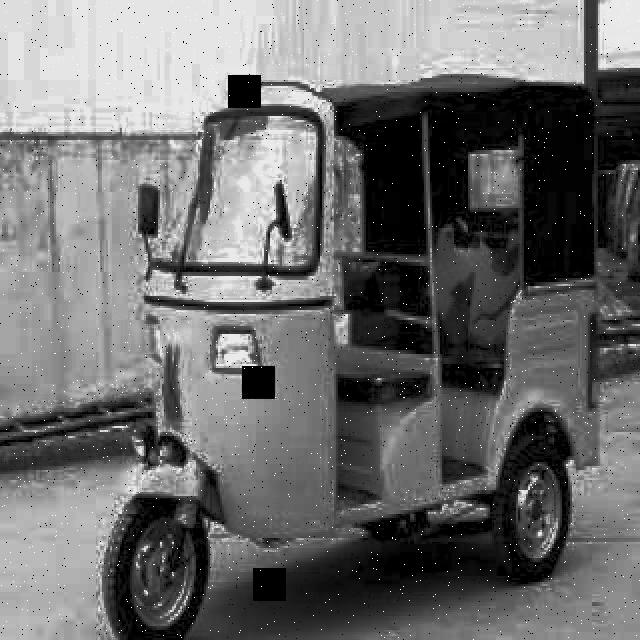Auto-Rickshaw: (96, 74, 604, 640)
